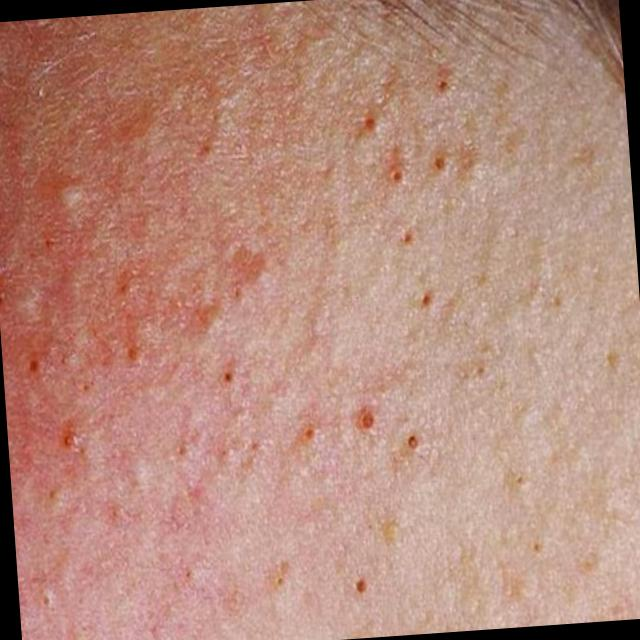blackhead: (199, 142, 217, 164), (362, 412, 373, 428), (364, 116, 376, 130), (126, 348, 138, 362), (355, 580, 367, 593), (28, 358, 38, 372), (111, 506, 122, 518), (408, 436, 418, 449), (434, 157, 444, 169), (37, 85, 46, 98), (304, 428, 315, 438), (392, 171, 401, 182), (46, 238, 54, 250), (439, 80, 447, 90), (64, 436, 72, 446), (48, 490, 56, 500), (422, 296, 431, 304), (224, 372, 232, 381), (60, 356, 69, 364), (179, 446, 187, 455), (43, 596, 50, 606), (121, 284, 129, 292), (251, 443, 260, 450), (233, 290, 240, 298), (533, 543, 539, 552), (404, 234, 410, 242), (276, 577, 282, 585), (72, 442, 80, 448), (83, 384, 89, 391), (92, 332, 99, 338), (72, 433, 78, 440), (77, 435, 83, 442), (478, 367, 484, 373), (185, 571, 189, 578), (517, 477, 521, 482), (80, 448, 84, 453), (90, 380, 94, 385), (0, 294, 2, 303)
